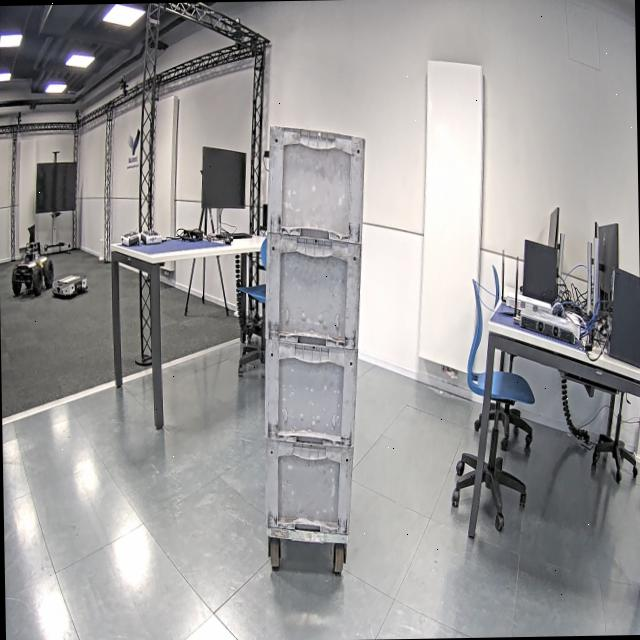Box4G: (262, 122, 368, 248), (262, 230, 364, 358), (262, 334, 361, 452), (261, 435, 356, 535)
